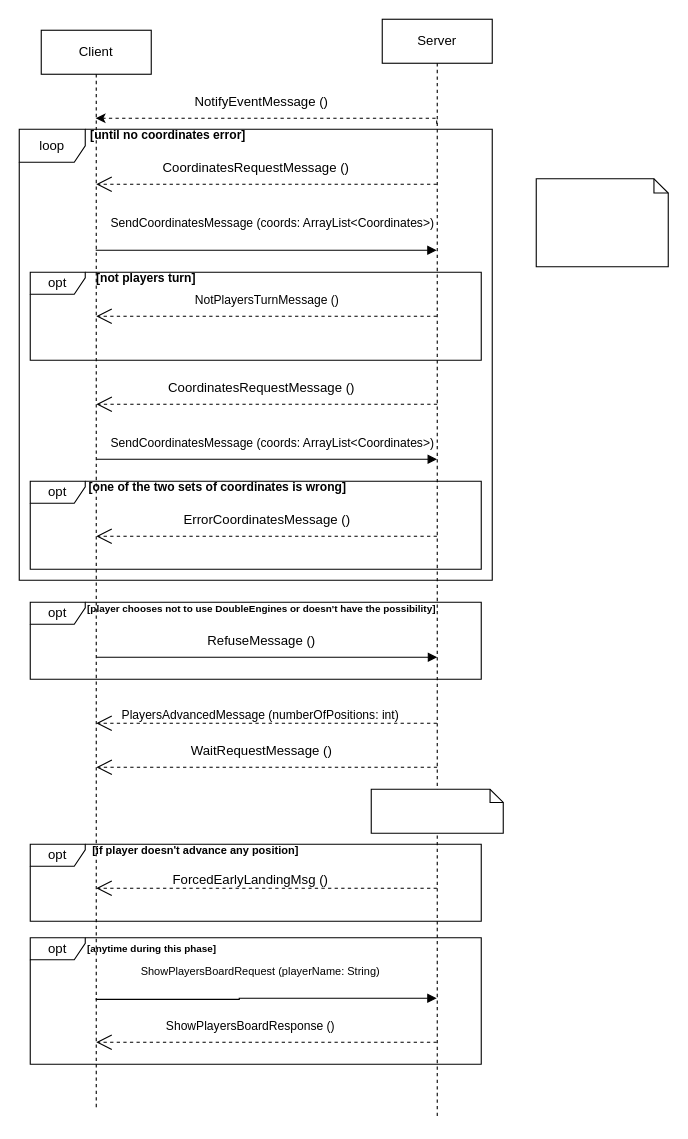
This 688x1139 diagram has some shape labels left out. Each missing label, with the centre of its shape:
after everyone's turn: [436,810]
First input DoubleEngine to use after that input BatteryComponents: [601,222]
